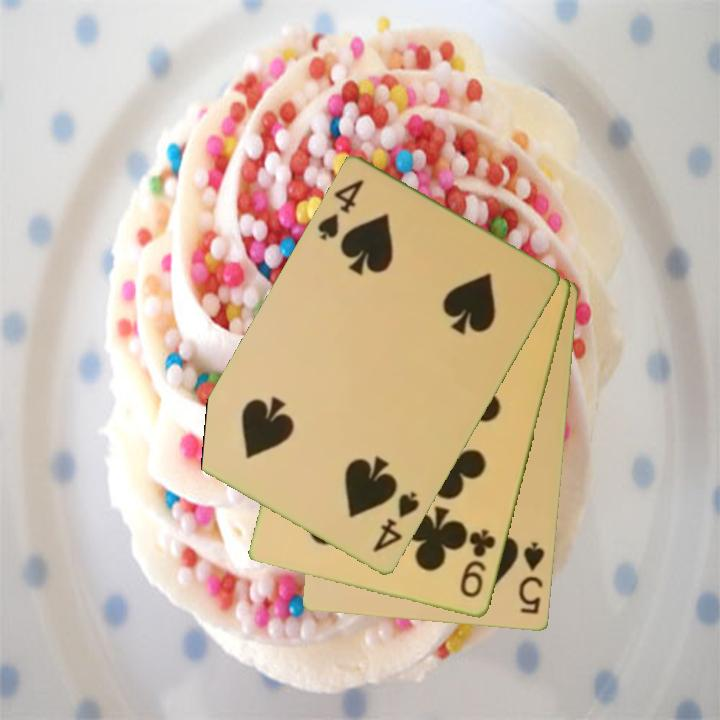4s: (369, 488, 423, 556), (314, 175, 367, 244)
5s: (515, 538, 548, 618)
9c: (456, 526, 499, 601)
